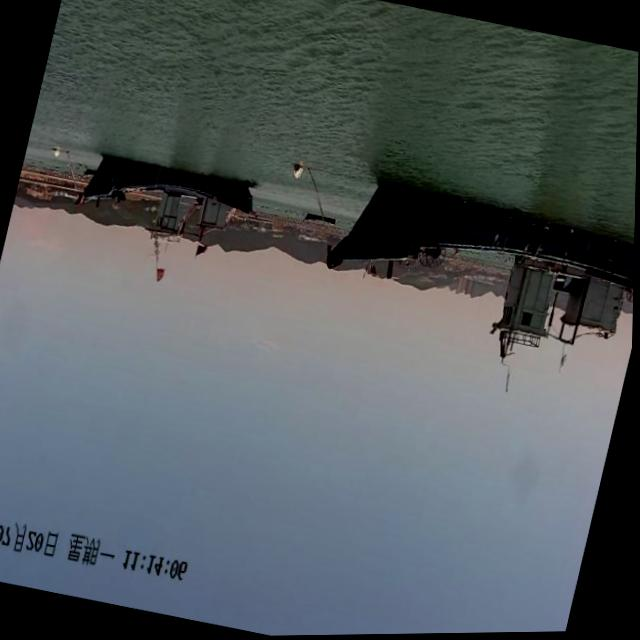ship2: (332, 189, 636, 290)
